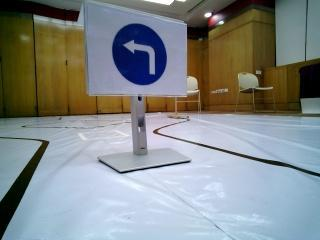left: (89, 7, 183, 94)
